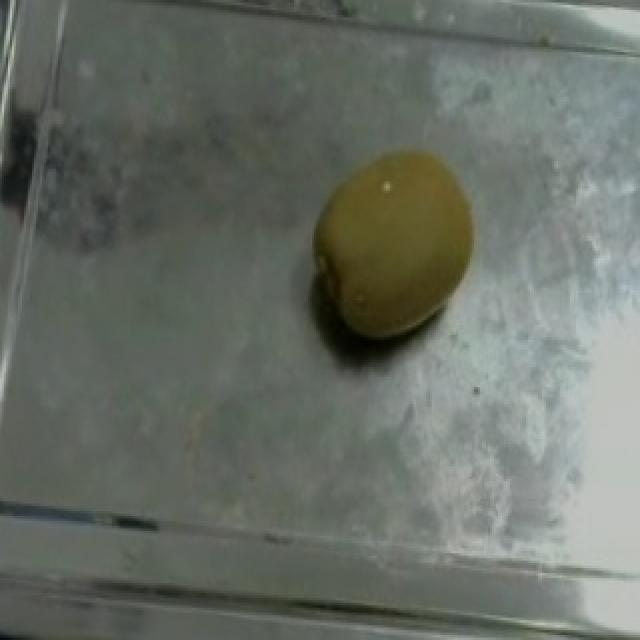Fruit: (302, 134, 488, 355)
